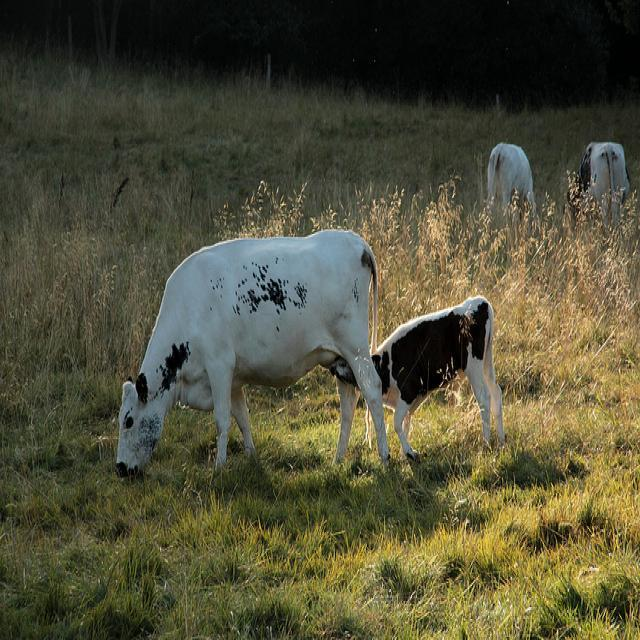cow: (115, 231, 390, 475), (373, 294, 503, 460), (482, 142, 535, 249), (577, 141, 629, 228)
